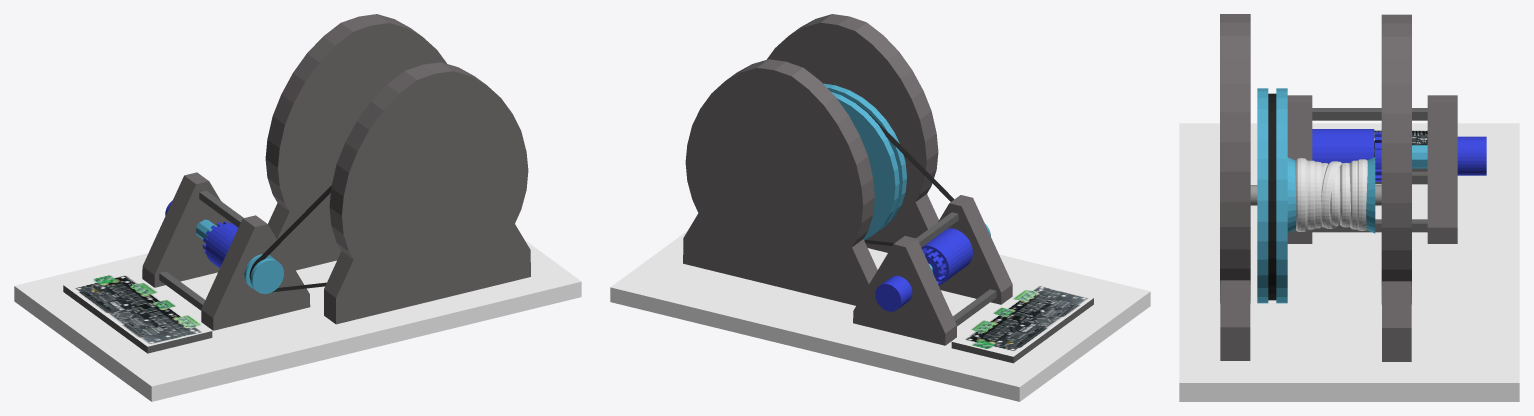
Rendered from Projekt3D.glb.
3 views of the same model, side by side, from view 1: azimuth 30°, elevation 25°; view 2: azimuth 150°, elevation 25°; view 3: azimuth 270°, elevation 25° (orthographic). The views are drawn at different scales.
Parts seen in each view (by area): view 1: Blueprint; view 2: Blueprint; view 3: Blueprint.
Boxes of the visible parts, left/top/right/bottom form: Blueprint: left=14, top=14, right=581, bottom=401; Blueprint: left=610, top=14, right=1150, bottom=401; Blueprint: left=1179, top=14, right=1519, bottom=401.
Bounding box in the file's own units: 5.88 × 3.18 × 3.26.
Materials: 12 (1 with a texture image).
